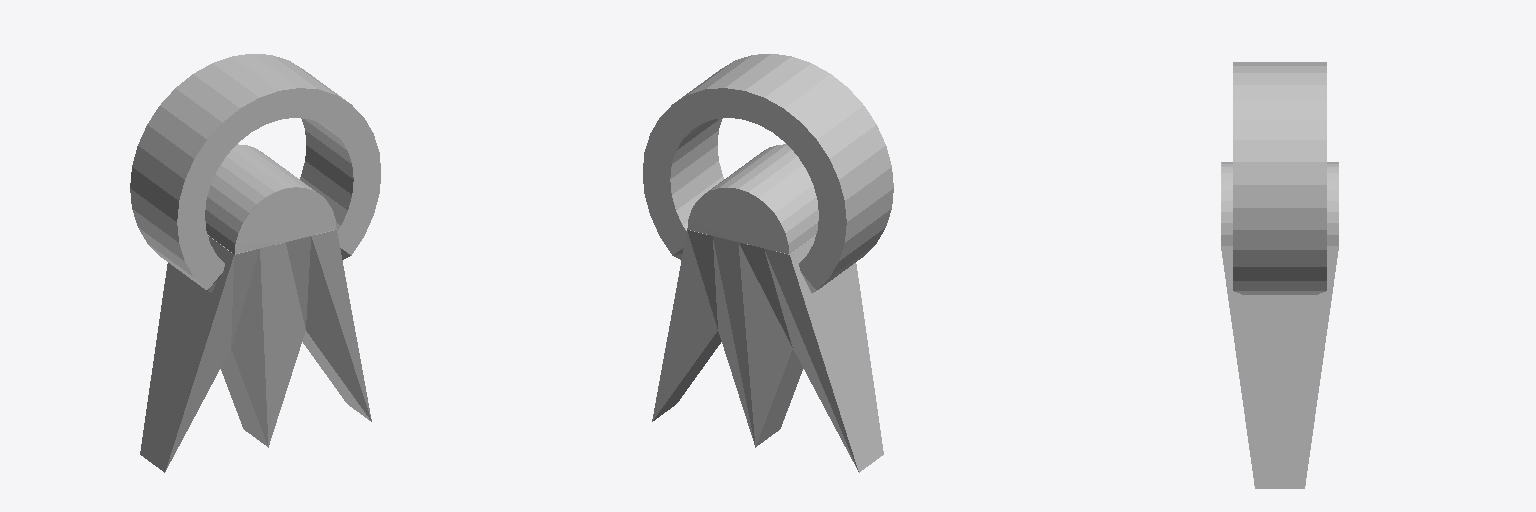
The model's file is blaster.obj.
The picture shows the model from 3 angles: view 1: azimuth 30°, elevation 25°; view 2: azimuth 150°, elevation 25°; view 3: azimuth 270°, elevation 25°; orthographic projection.
Visible parts, largest first — view 1: Cube_Cube.001; view 2: Cube_Cube.001; view 3: Cube_Cube.001.
Boxes of the visible parts, box(x1,y1,x2,y2) form: Cube_Cube.001: box(130, 54, 380, 472); Cube_Cube.001: box(643, 54, 893, 472); Cube_Cube.001: box(1221, 62, 1338, 488).
Size of the model in its own units: 2.24 by 3.77 by 1.11.